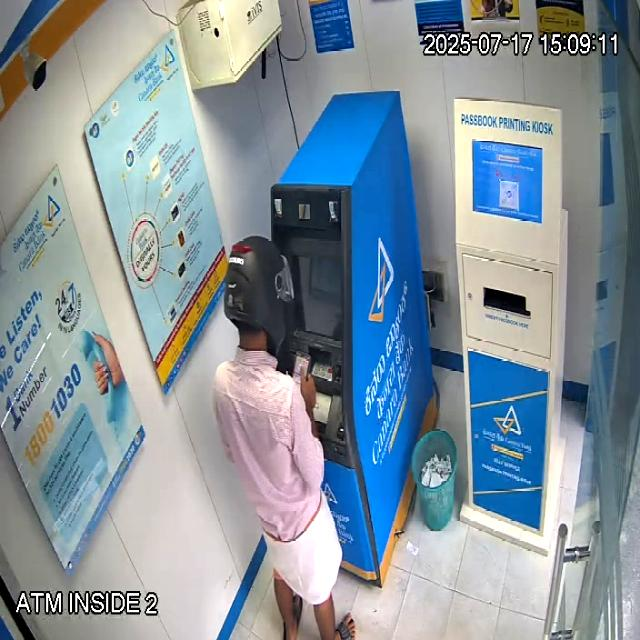helmet: (222, 235, 295, 356)
